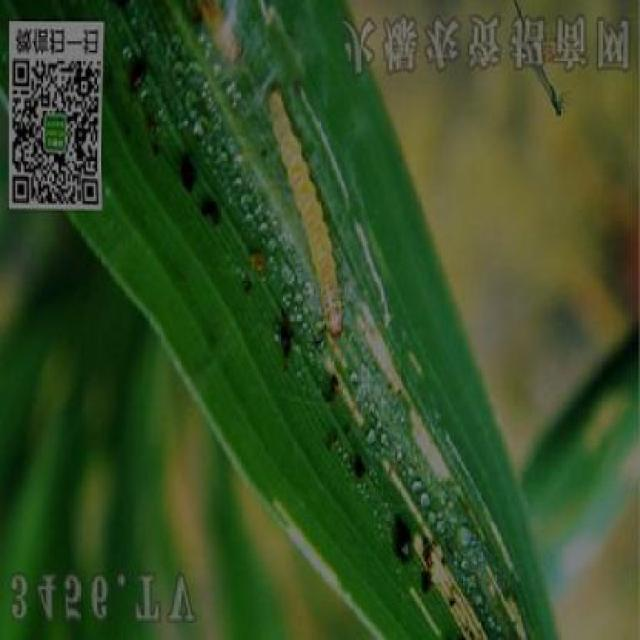leaf-folder: (264, 71, 362, 358)
